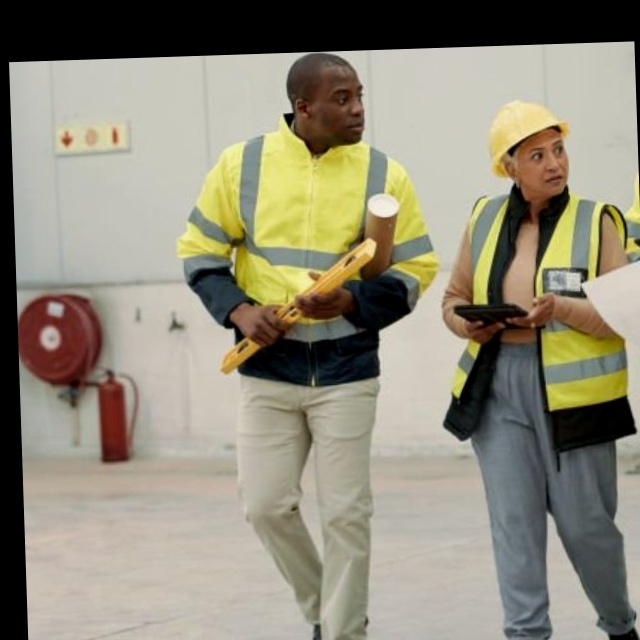Con_Casco: (484, 96, 578, 197)
Con_Chaleco: (220, 134, 402, 378), (457, 188, 626, 424)
Sin_Casco_Mascarrilla: (286, 51, 367, 148)
